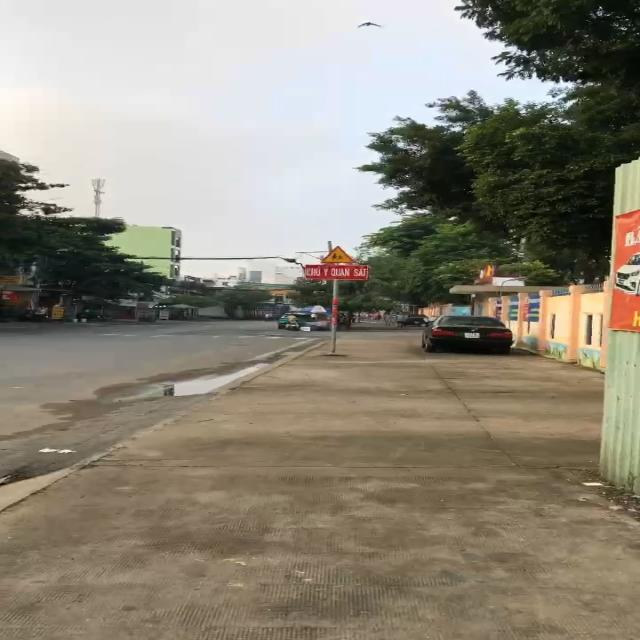Bien bao tre em: (317, 244, 357, 265)
